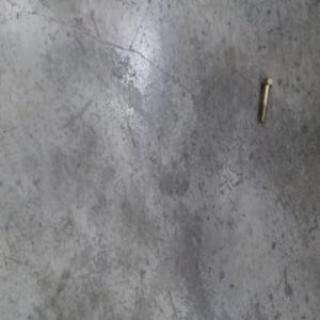Bolttrack_idkeyframe: (254, 71, 269, 118)
